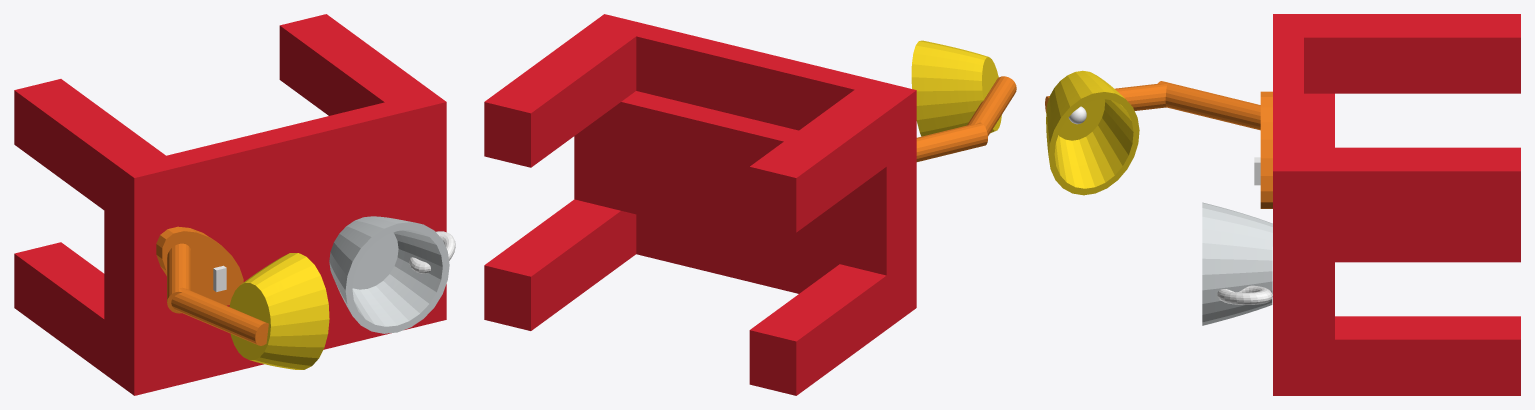
The model's file is tinker.obj.
3 renders of one model, left to right at view 1: azimuth 30°, elevation 25°; view 2: azimuth 150°, elevation 25°; view 3: azimuth 270°, elevation 25°, orthographic. The views are drawn at different scales.
Parts seen in each view (by area): view 1: group_0_15277357, group_0_14541540, group_0_16768282, group_0_16089887, group_0_16448250; view 2: group_0_15277357, group_0_16768282, group_0_16089887; view 3: group_0_15277357, group_0_16768282, group_0_14541540, group_0_16089887, group_0_16448250.
Part boxes in pixels (<box>): group_0_15277357: <box>14,14,446,395</box>; group_0_14541540: <box>329,216,449,333</box>; group_0_16768282: <box>229,253,329,369</box>; group_0_16089887: <box>156,226,268,345</box>; group_0_16448250: <box>213,231,455,291</box>; group_0_15277357: <box>484,14,916,395</box>; group_0_16768282: <box>911,40,1001,136</box>; group_0_16089887: <box>916,76,1016,161</box>; group_0_15277357: <box>1273,14,1520,395</box>; group_0_16768282: <box>1046,70,1139,195</box>; group_0_14541540: <box>1202,202,1272,325</box>; group_0_16089887: <box>1045,81,1272,208</box>; group_0_16448250: <box>1068,106,1272,304</box>.
Size of the model in its own units: 63.73 by 40 by 76.75.
